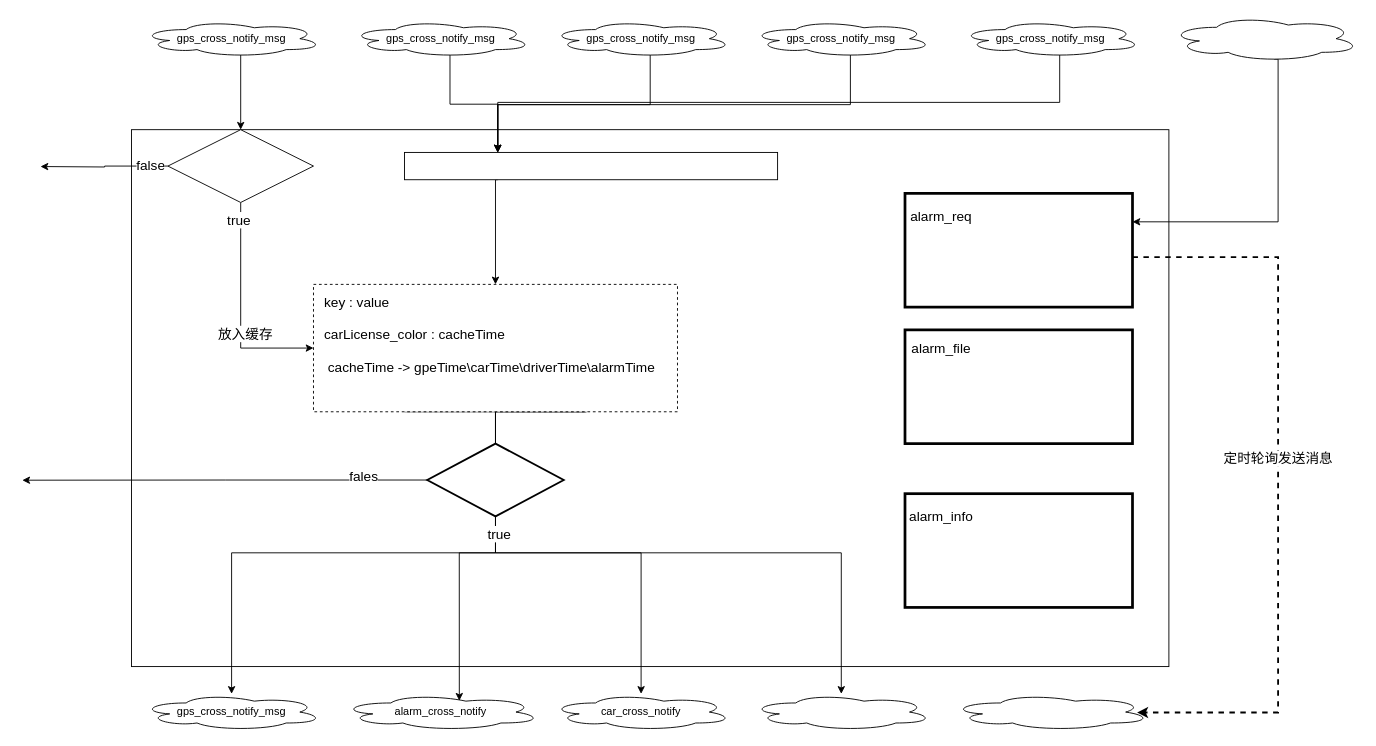
Image size: 1376x746. Some labels were removed from this diagram. The shapes that lost their labels are listed below. From the top down, each one's box as (x1, y1, x2, y2) in pixels, then its label:
(1168, 15, 1360, 61): alarm_file_rsp_cross_notify
(167, 129, 313, 202): isInside() ? true : false
(404, 152, 778, 180): 接收消息，查看是否在缓存中
(426, 442, 564, 517): isCache()
(749, 693, 932, 730): driver_cross_notify
(950, 693, 1151, 730): alarm_file_req_cross_notify
